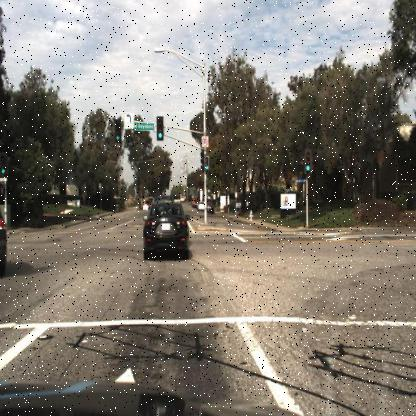car: (142, 197, 190, 264), (203, 198, 215, 217)
trafficLight-Green: (302, 148, 312, 176), (156, 119, 165, 142), (203, 152, 211, 172)
trafficLight-GreenLeft: (115, 118, 123, 146)
